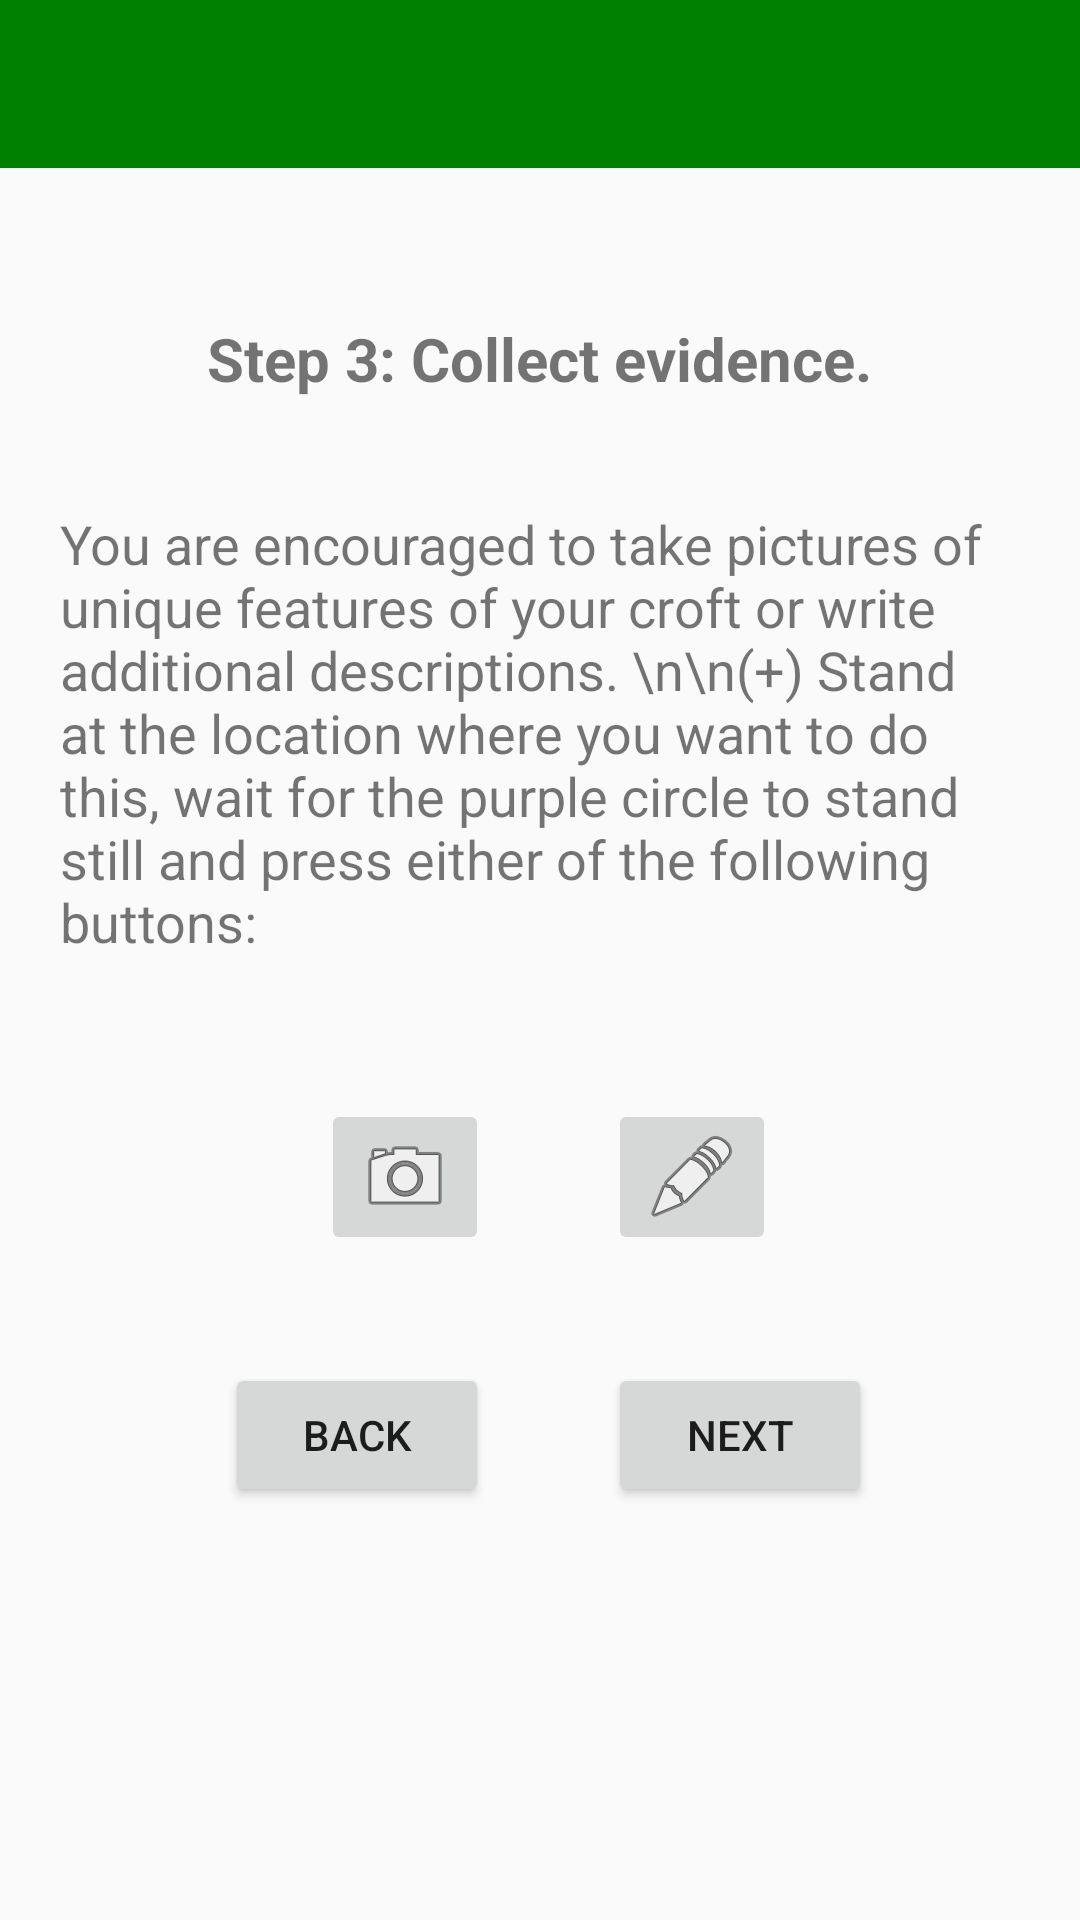

Where to tap for icons on this 1080px x 1920px app screen, as (x,y):
camera: (405,1177)
edit: (692,1177)
